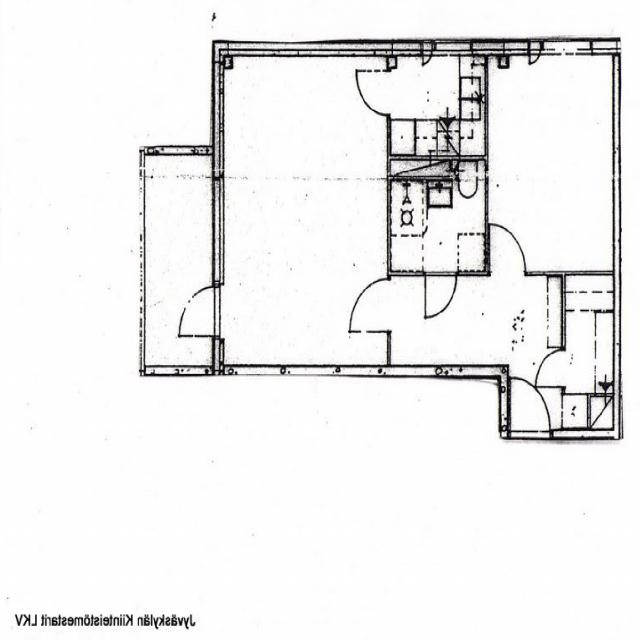door: (511, 375, 549, 439), (177, 286, 224, 336), (350, 279, 392, 331), (491, 222, 526, 276), (357, 72, 392, 114), (426, 270, 456, 317), (535, 349, 566, 386)
